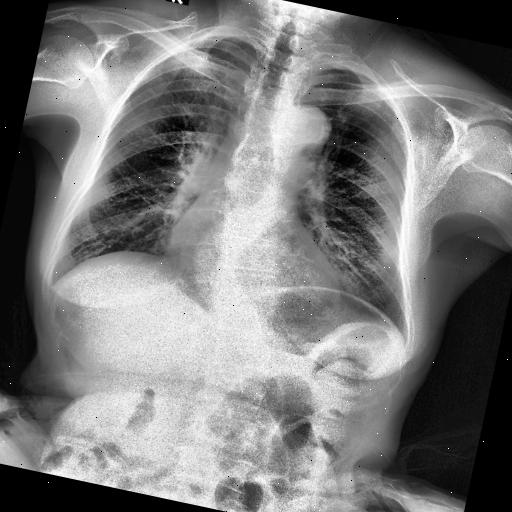0- Aortic enlargement: (269, 100, 334, 163), (266, 98, 332, 158), (272, 101, 334, 149)
